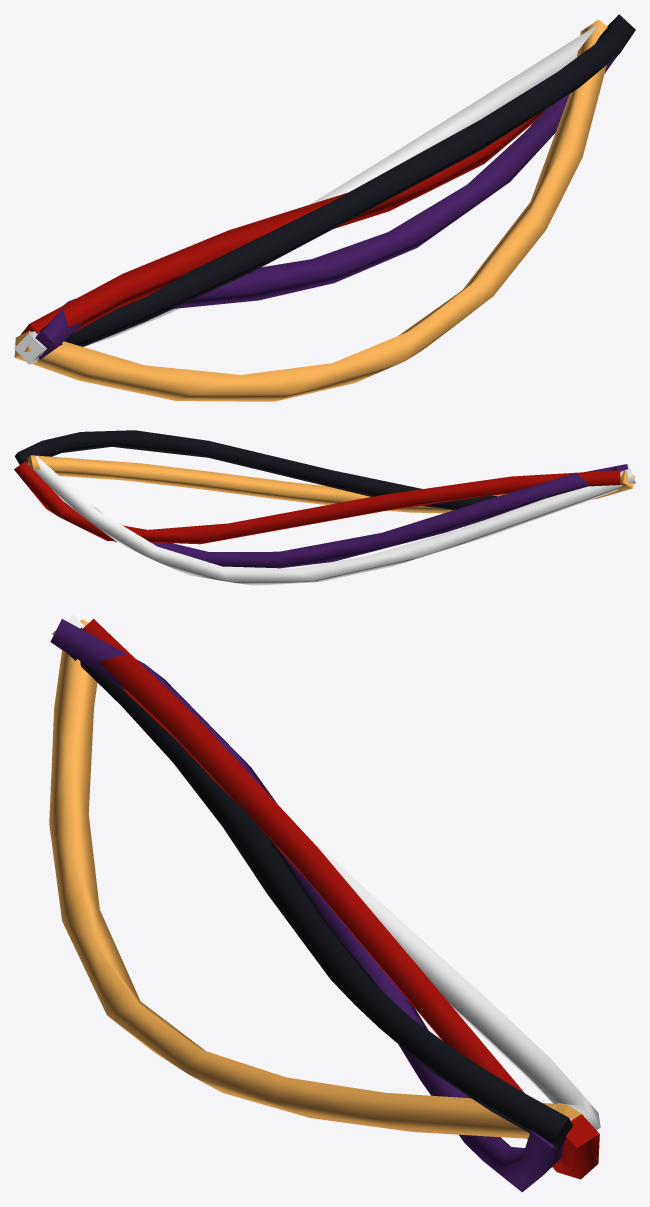
The model's file is cables_tiny_2.fbx.
3 renders of one model, top to bottom at view 1: azimuth 30°, elevation 25°; view 2: azimuth 150°, elevation 25°; view 3: azimuth 270°, elevation 25°, orthographic. The views are drawn at different scales.
Parts seen in each view (by area): view 1: cables_tiny_2; view 2: cables_tiny_2; view 3: cables_tiny_2.
Part boxes in pixels (bbox=[...]): cables_tiny_2: bbox=[14, 14, 635, 401]; cables_tiny_2: bbox=[14, 430, 635, 585]; cables_tiny_2: bbox=[49, 614, 600, 1192].
Bounding box in the file's own units: 158 × 32.07 × 74.9.
